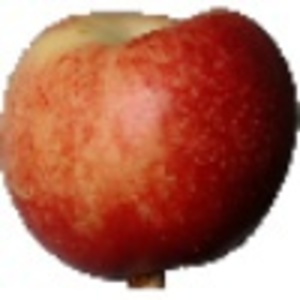nectarina: (1, 5, 300, 292)
